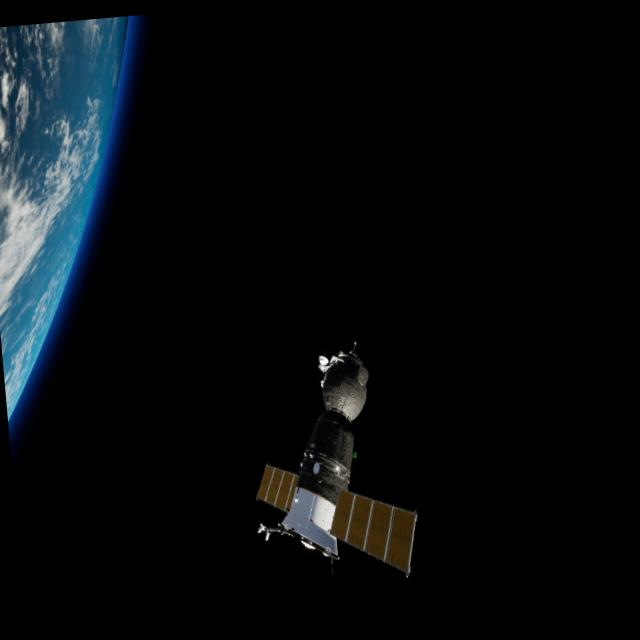Satellites revolving around earth: (238, 334, 424, 592)
